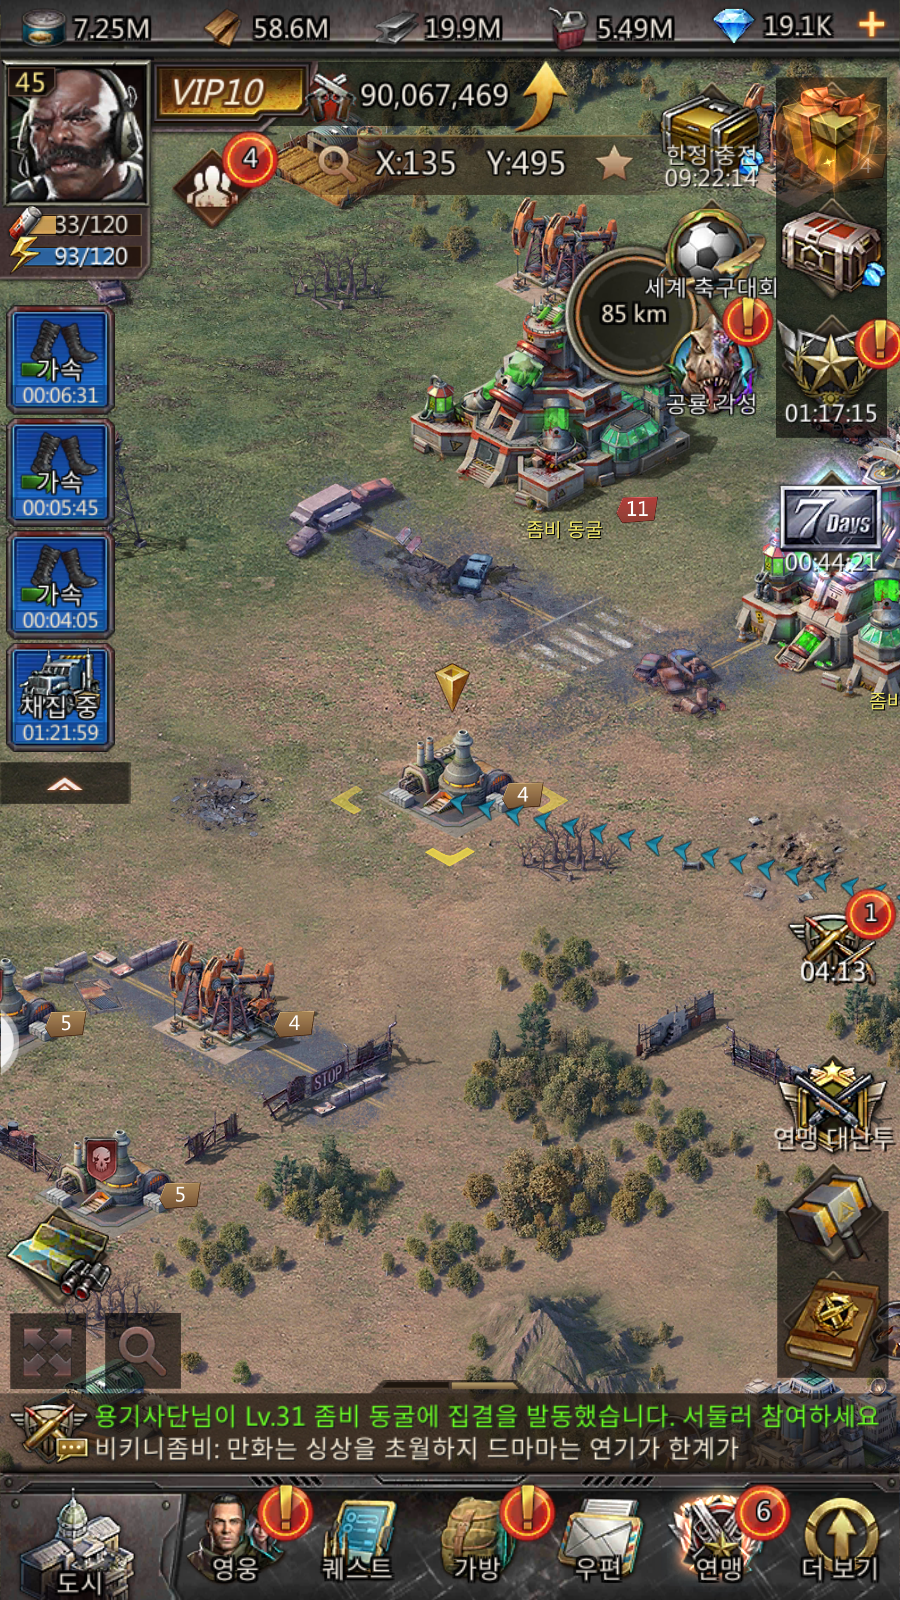city: (16, 1495, 157, 1600)
occupied_steel: (313, 642, 598, 874)
open_panel: (90, 1293, 195, 1400)
troops_cnt_4: (140, 120, 308, 247)
